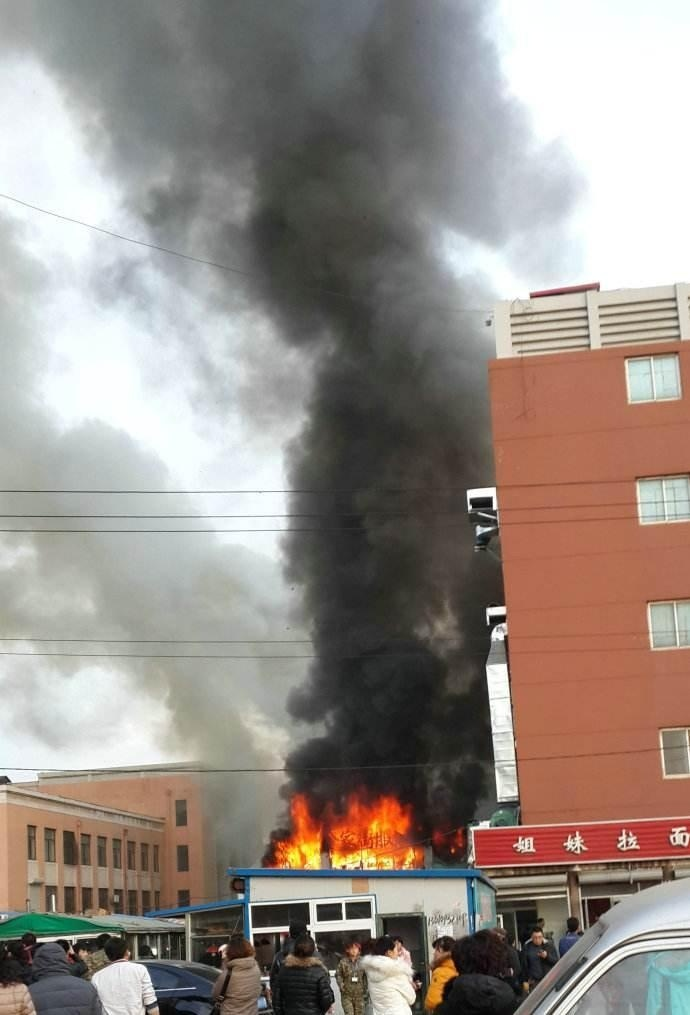fire: (271, 791, 424, 870)
